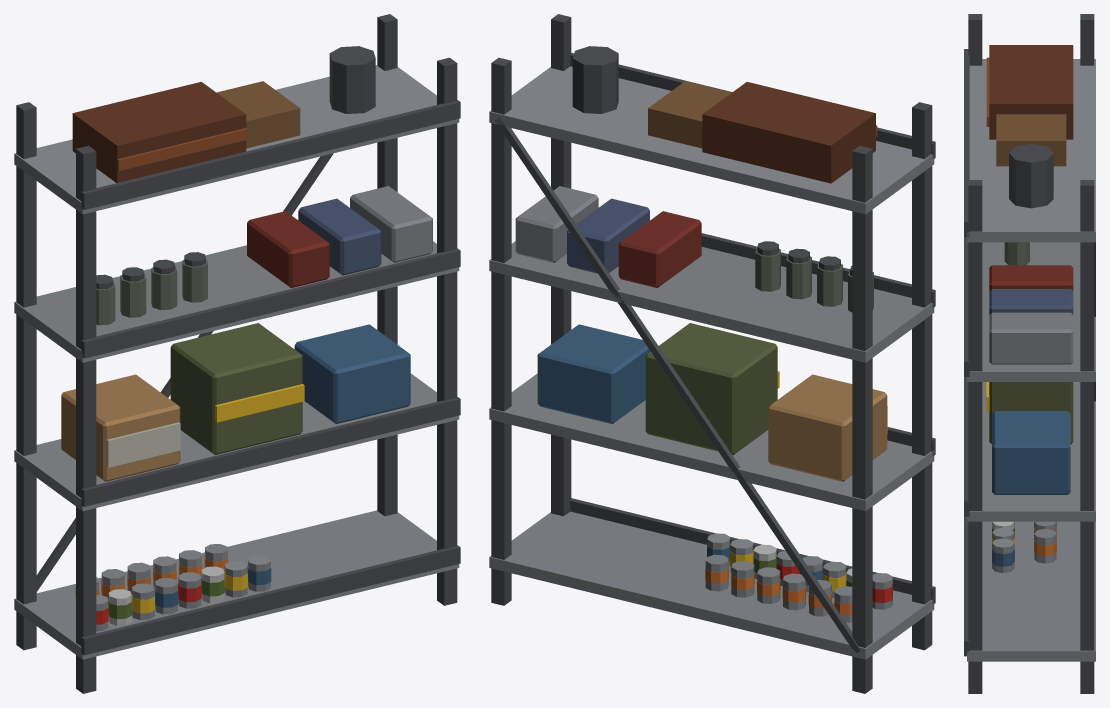
Rendered from piece_shelf.fbx.
3 renders of one model, left to right at view 1: azimuth 30°, elevation 25°; view 2: azimuth 150°, elevation 25°; view 3: azimuth 270°, elevation 25°, orthographic. The views are drawn at different scales.
Parts seen in each view (by area): view 1: piece_shelf; view 2: piece_shelf; view 3: piece_shelf.
Part boxes in pixels (x1=…): piece_shelf: x1=14, y1=14, x2=460, y2=693; piece_shelf: x1=489, y1=14, x2=935, y2=693; piece_shelf: x1=964, y1=14, x2=1095, y2=693.
Bounding box in the file's own units: 1.46 × 2 × 0.47.
